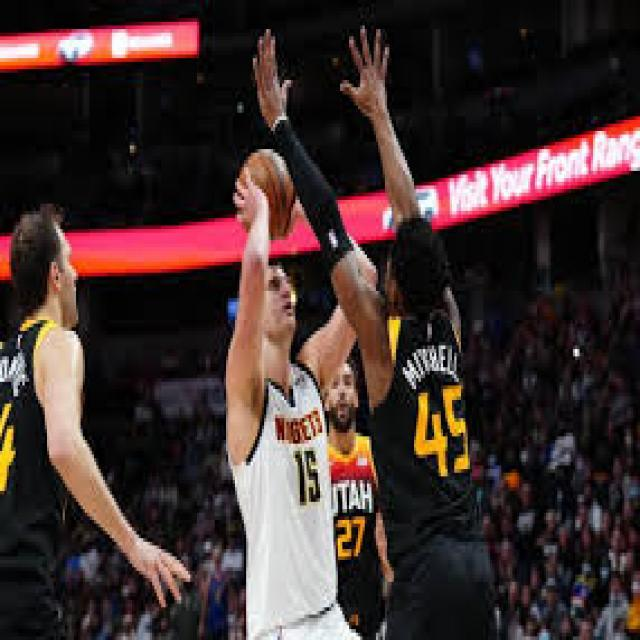rim: (242, 149, 291, 229)
